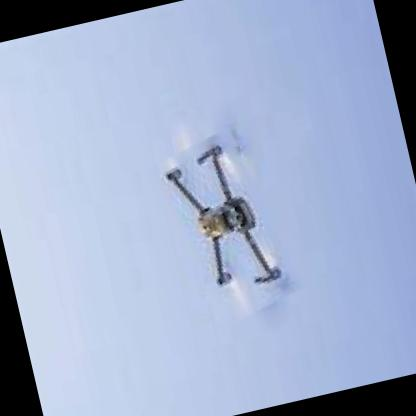drone: (148, 125, 302, 332)
